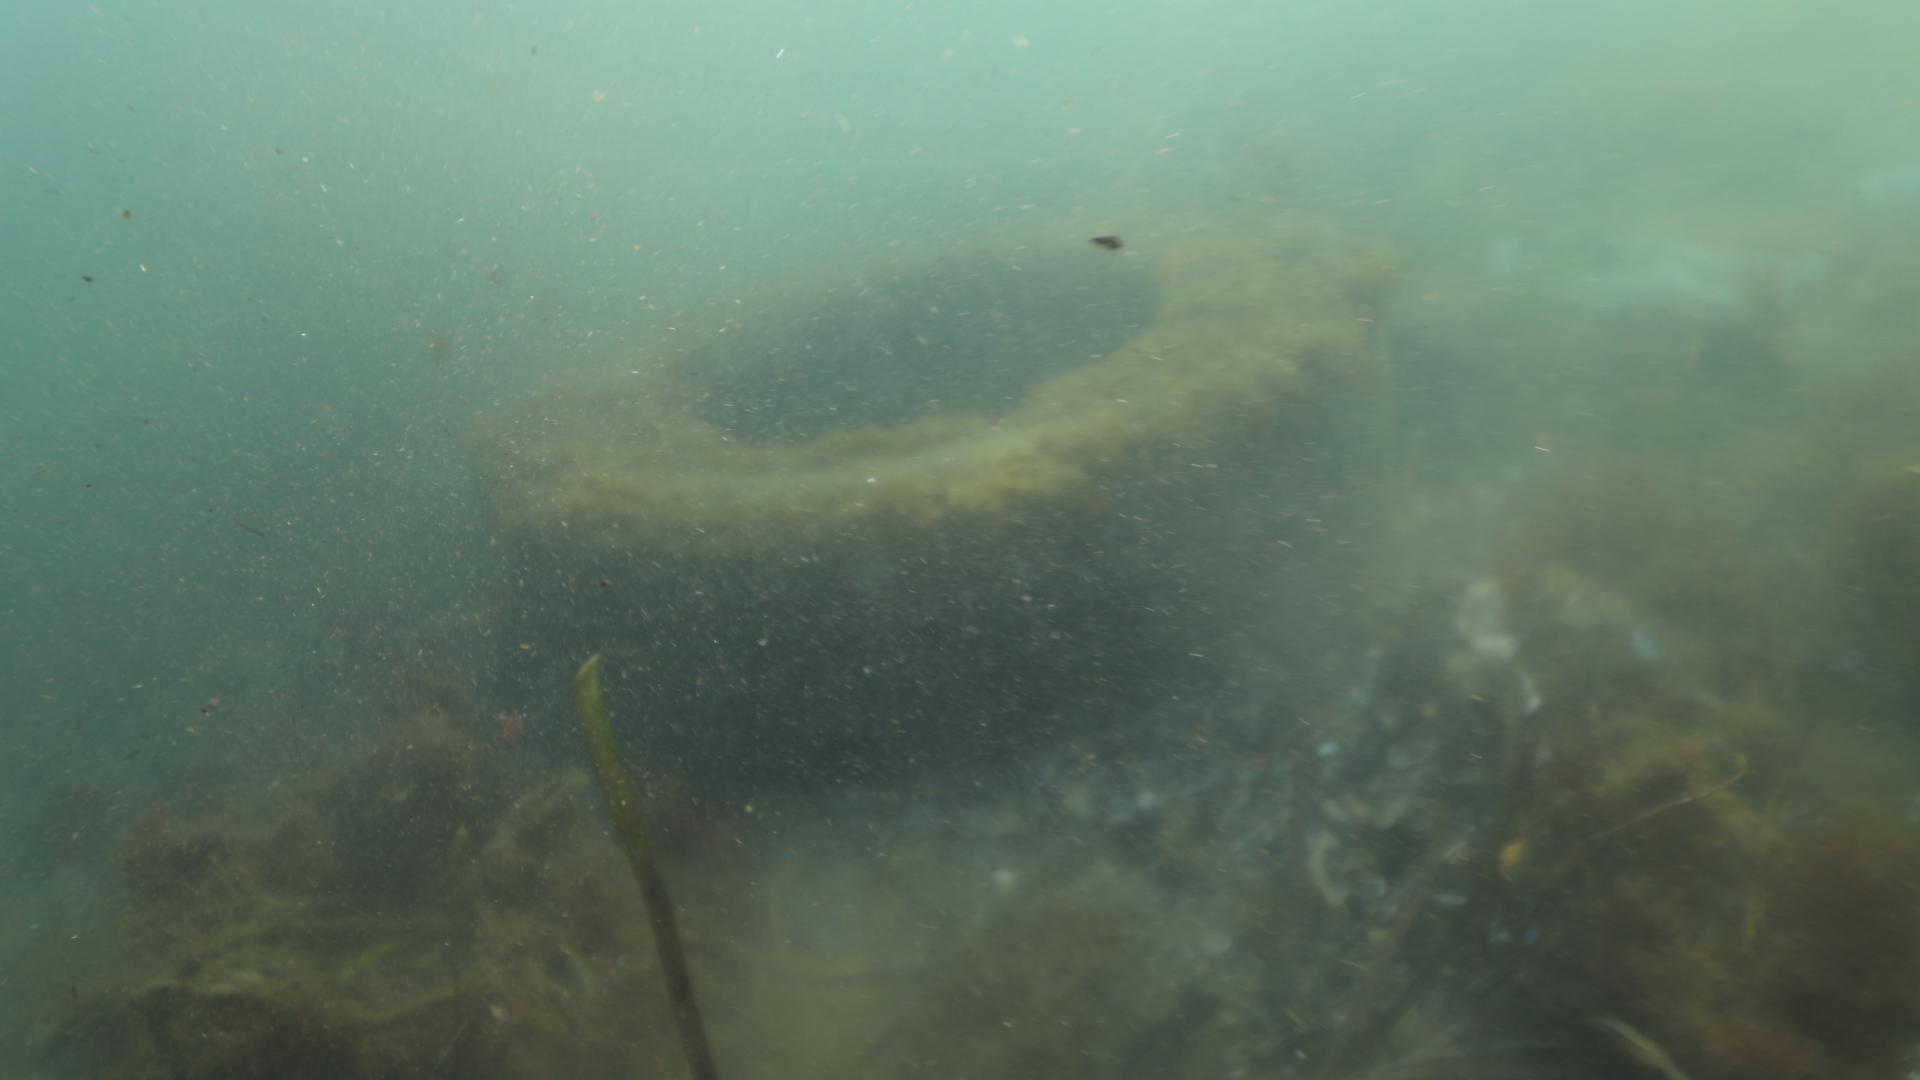tire: (462, 200, 1414, 766)
